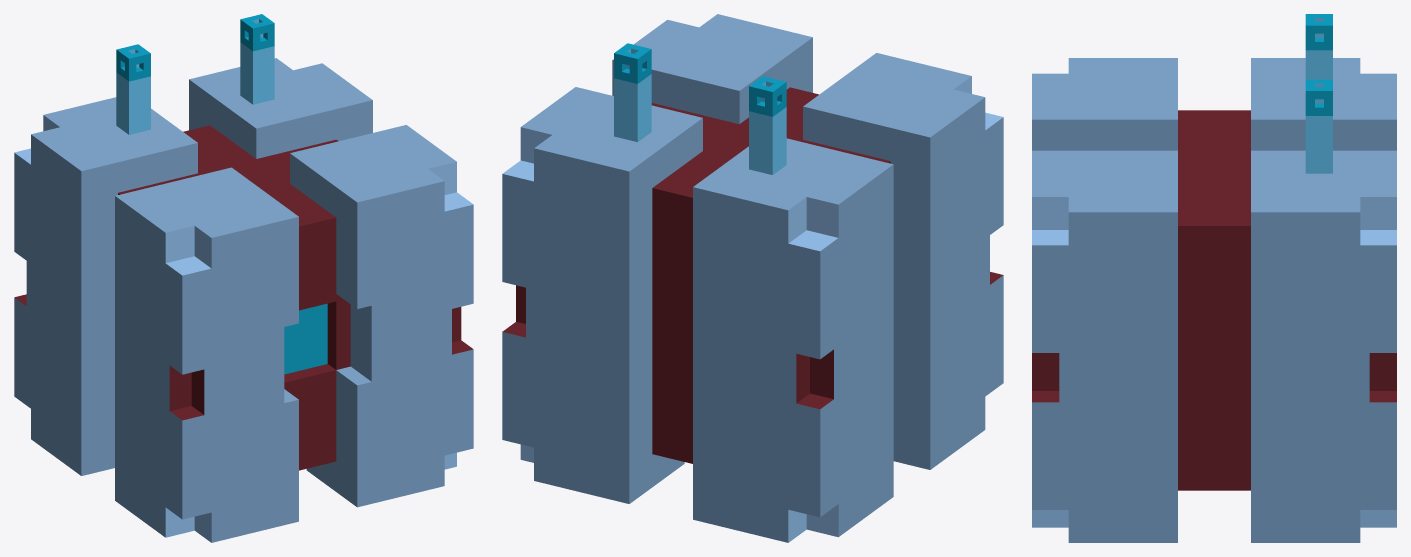
The model's file is dron.fbx.
3 renders of one model, left to right at view 1: azimuth 30°, elevation 25°; view 2: azimuth 150°, elevation 25°; view 3: azimuth 270°, elevation 25°, orthographic. The views are drawn at different scales.
Visible parts, largest first — view 1: dron.001; view 2: dron.001; view 3: dron.001.
Boxes of the visible parts, left/top/right/bottom form: dron.001: left=14, top=14, right=473, bottom=542; dron.001: left=502, top=14, right=1003, bottom=542; dron.001: left=1032, top=14, right=1396, bottom=542.
Size of the model in its own units: 4000 by 5000 by 4000.
